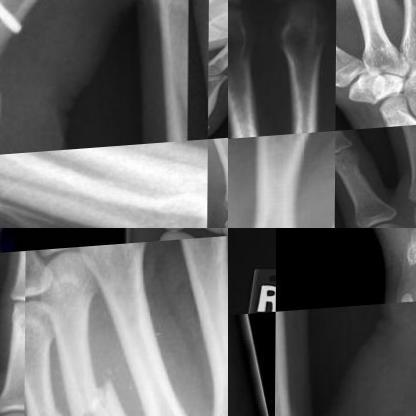fracture: (63, 364, 126, 415), (25, 391, 71, 415), (209, 121, 219, 141)
